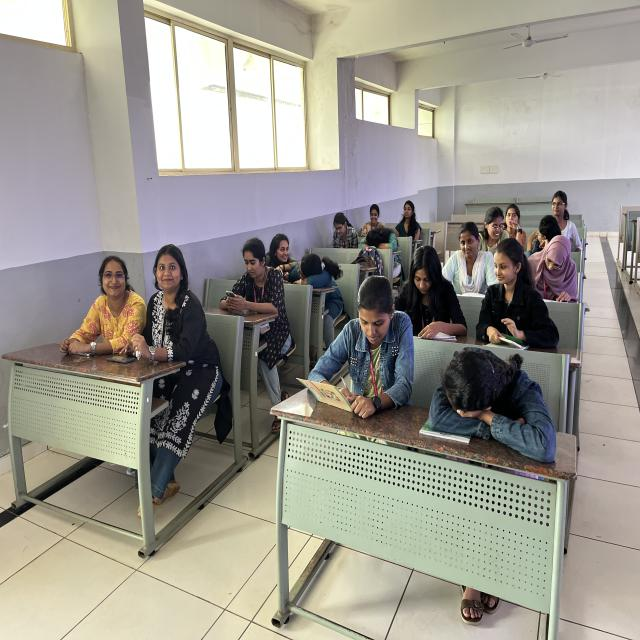Reading: (388, 241, 470, 340), (322, 210, 360, 249)
Sleeping: (429, 337, 564, 476), (290, 241, 346, 317), (357, 222, 403, 261)
Using Phone: (216, 236, 295, 355)
Writing: (321, 272, 423, 423), (528, 229, 583, 302)
